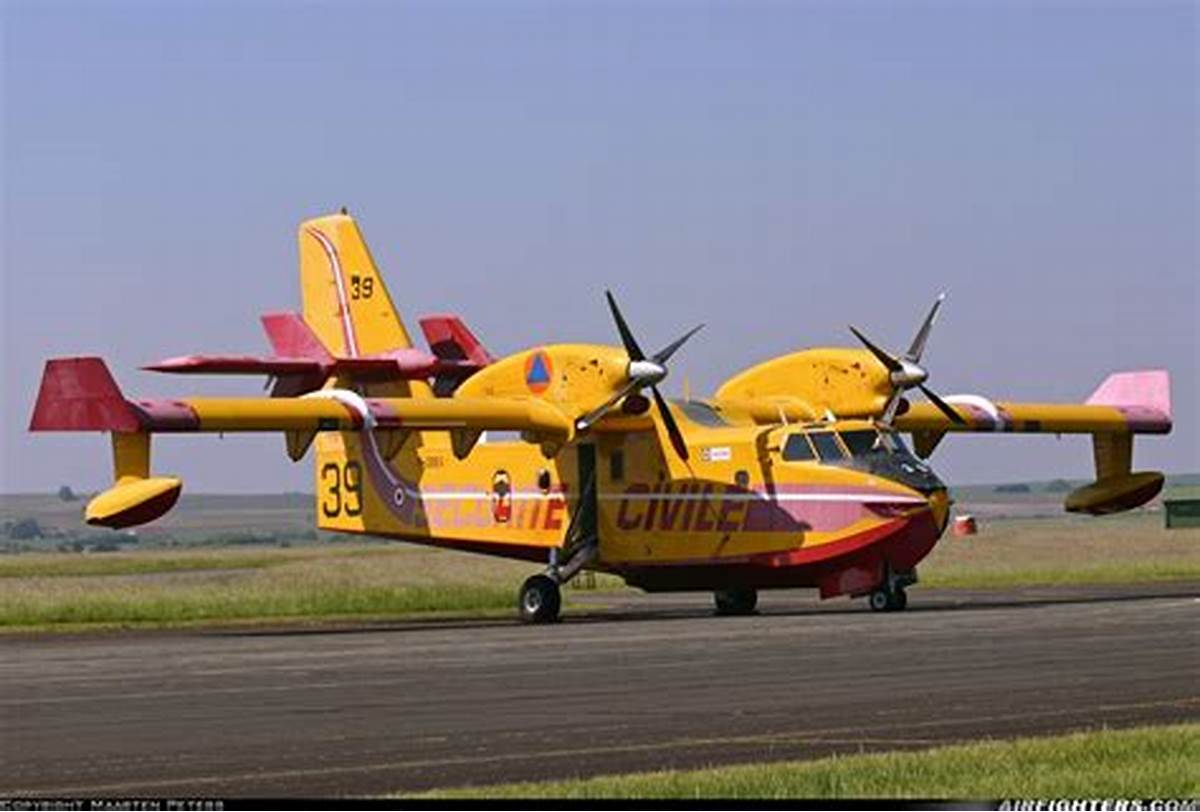Aeronef_de_service: (24, 193, 1192, 650)
